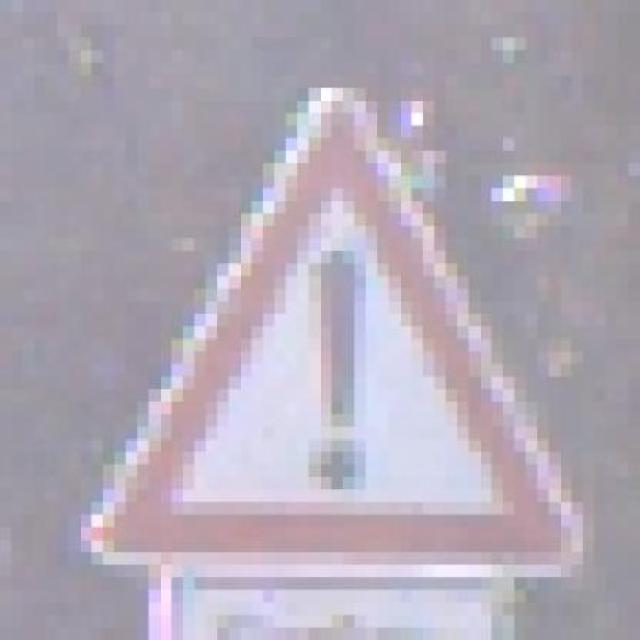Attention Please-: (57, 88, 594, 577)
